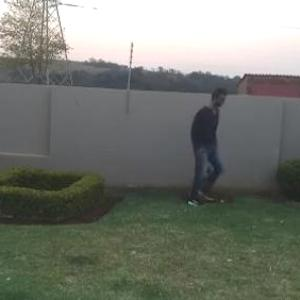follow: (185, 89, 218, 199)
